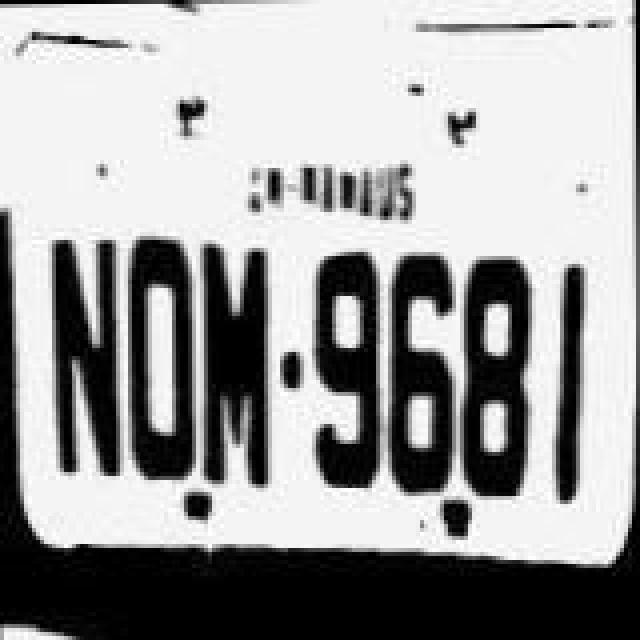1: (530, 252, 606, 540)
6: (382, 238, 466, 518)
8: (452, 234, 540, 526)
9: (304, 234, 388, 518)
M: (192, 214, 276, 510)
N: (44, 222, 128, 498)
O: (118, 220, 198, 496)
